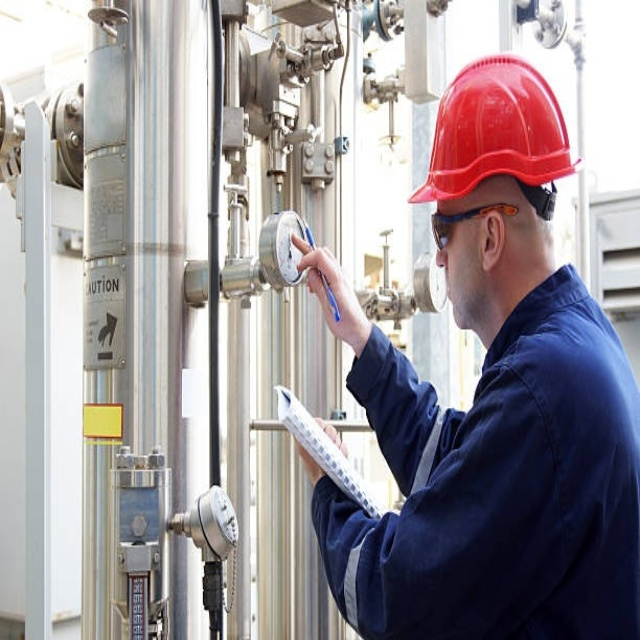Gafas: (429, 202, 518, 252)
Sin_guantes: (290, 235, 360, 343), (292, 414, 346, 487)
Sin_mascara: (436, 260, 483, 325)
